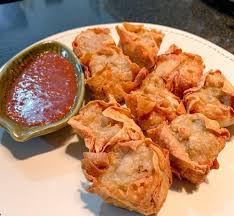Pangsit goreng: (84, 145, 174, 212), (159, 113, 229, 174), (65, 99, 150, 149), (124, 83, 190, 138), (145, 45, 215, 94), (82, 50, 145, 104), (183, 75, 234, 130), (116, 17, 161, 70), (72, 25, 116, 59)
